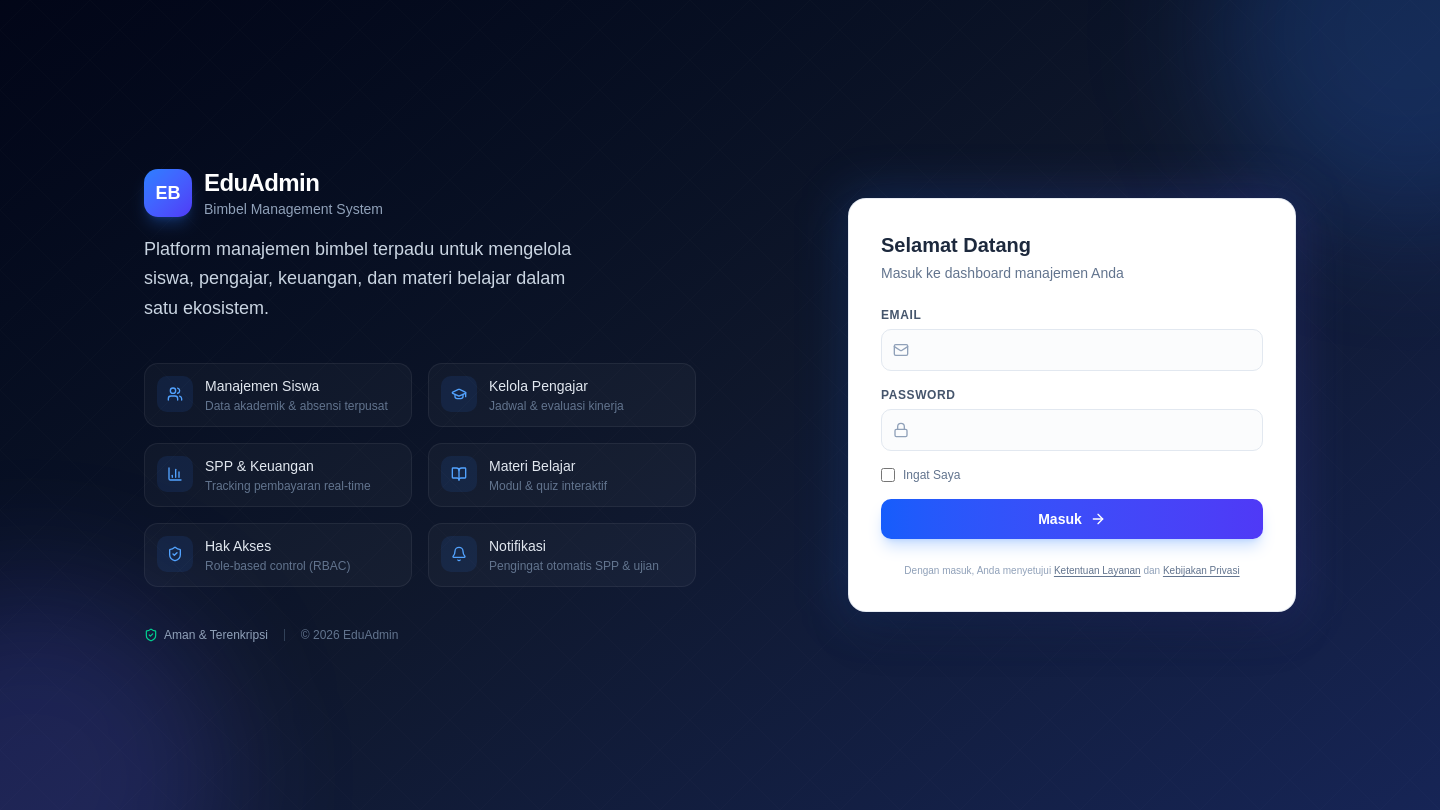
Test case: LoginPage — Email/Password Form › disables button while loading
Check: the text "Memproses..." is not shown
Step 1. Type "a@b.com" into the field labelled "Email" → {"x": 1072, "y": 350}, box [881,329,1263,371]
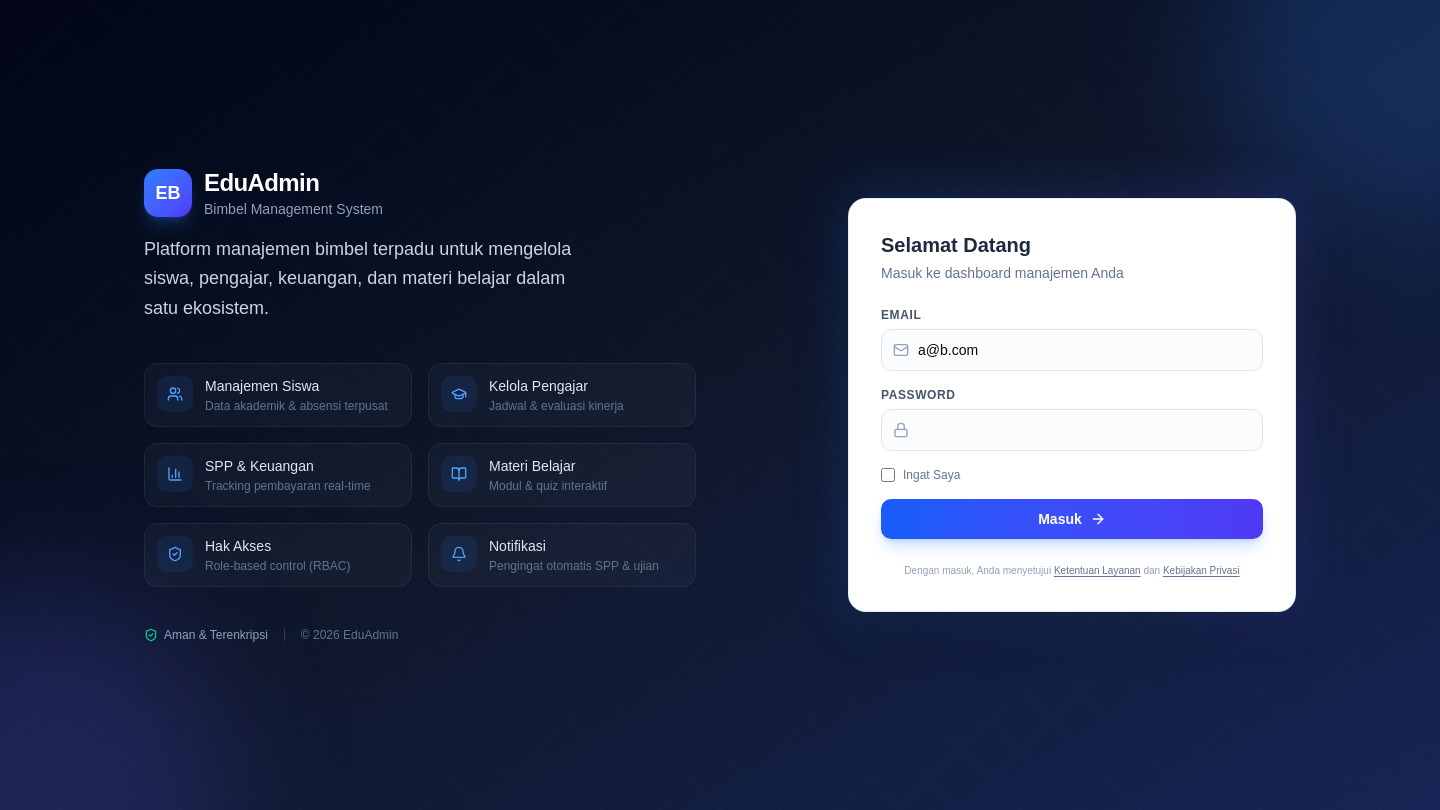
Step 2. Type "pass" into the password field labelled "Password" → {"x": 1072, "y": 430}, box [881,409,1263,451]
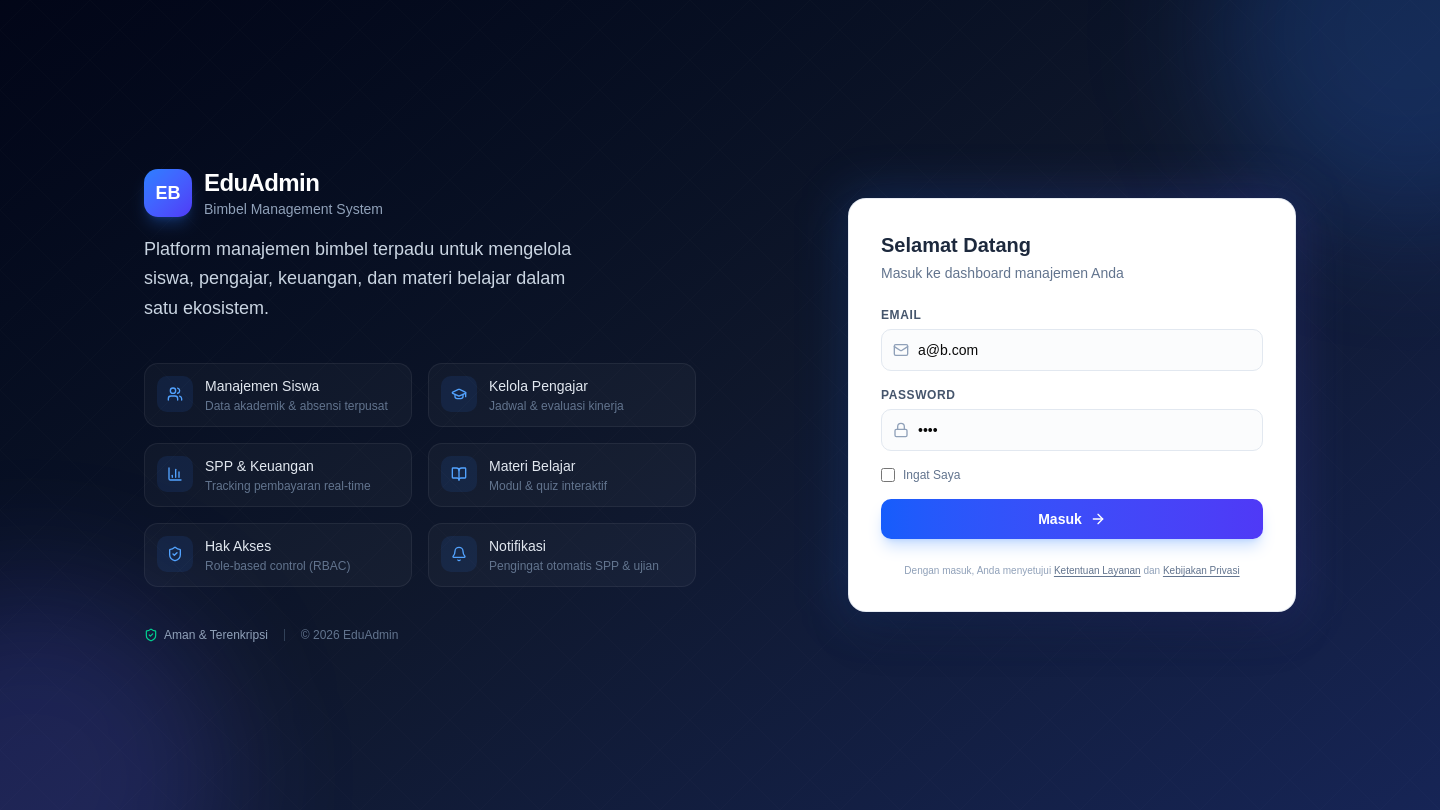
Step 3. Click the button "Masuk" → {"x": 1072, "y": 519}, box [881,499,1263,539]
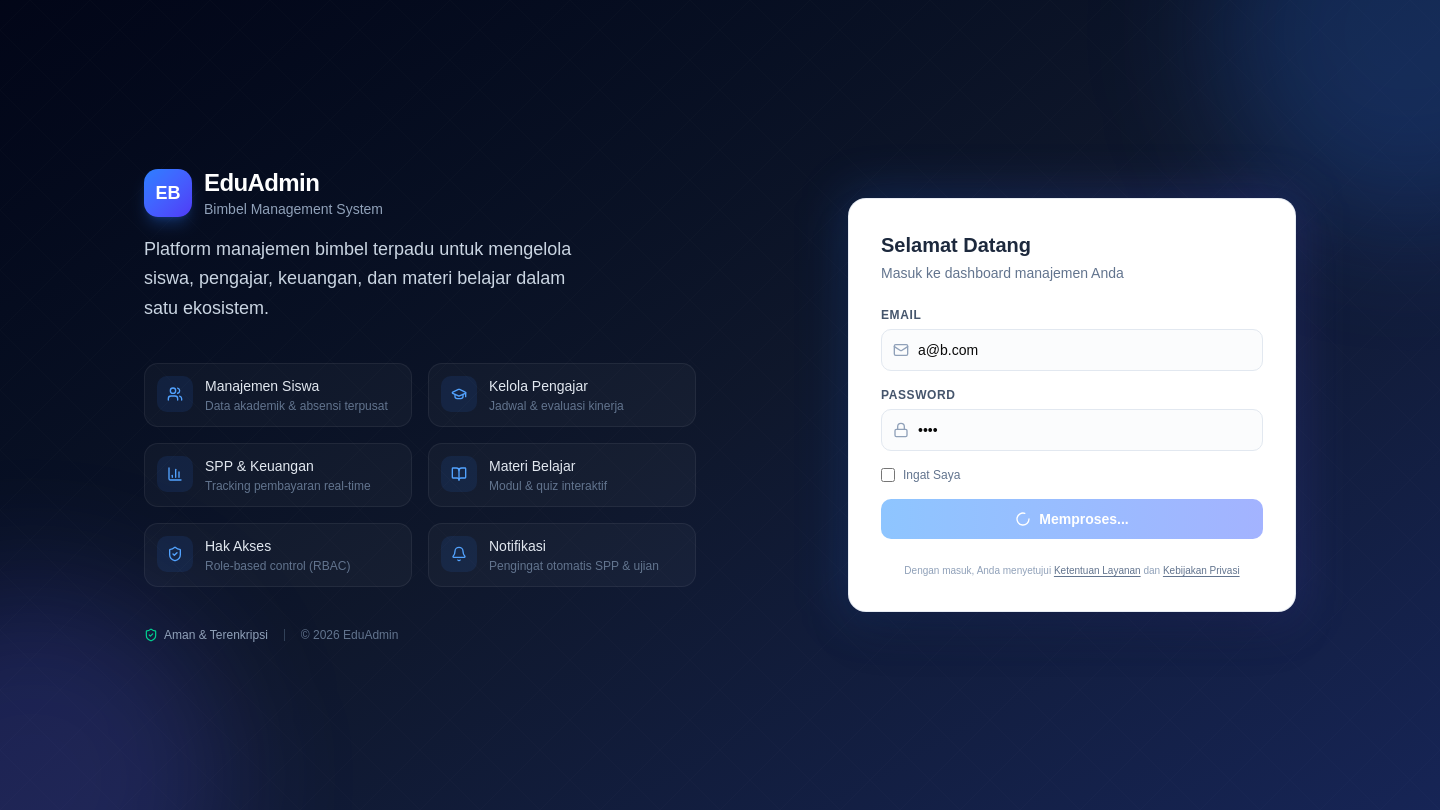
Check: the button "Memproses..." is disabled, box [881,499,1263,539]
